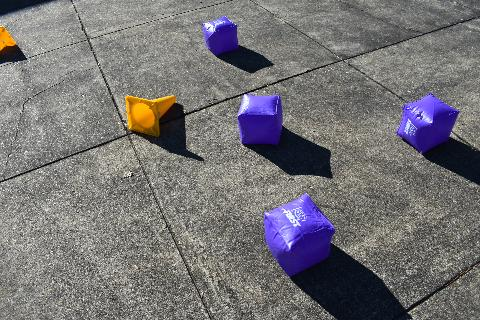cone: (125, 95, 177, 137), (0, 26, 17, 52)
cube: (264, 193, 336, 275), (398, 94, 460, 154), (237, 94, 282, 144), (202, 16, 239, 56)
